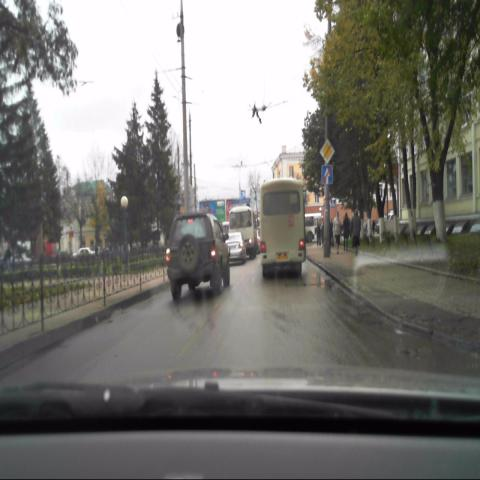2_2: (318, 138, 335, 164)
5_6: (320, 164, 334, 185)
